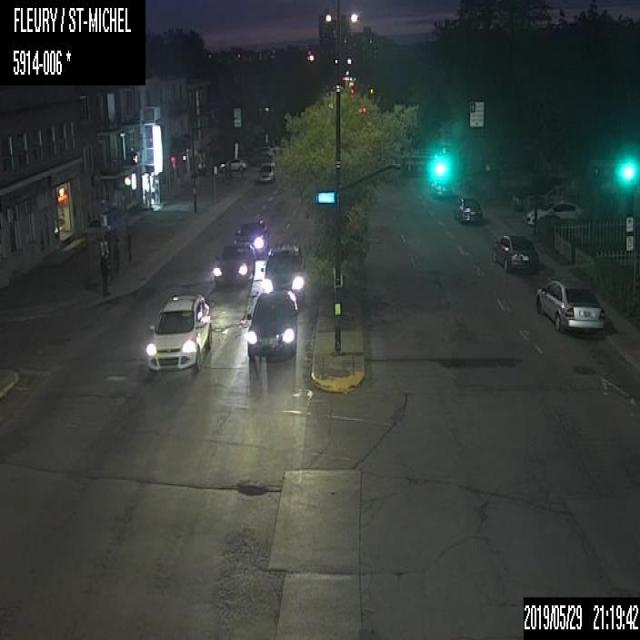pedestrian: (99, 248, 111, 298)
vehicle: (145, 288, 211, 372), (532, 276, 604, 332), (245, 289, 297, 360), (260, 242, 305, 306), (487, 232, 540, 275), (211, 240, 254, 286), (524, 199, 586, 227), (232, 217, 268, 260), (452, 196, 482, 222), (428, 179, 452, 199), (257, 161, 275, 183), (218, 158, 246, 171), (255, 145, 273, 159)
